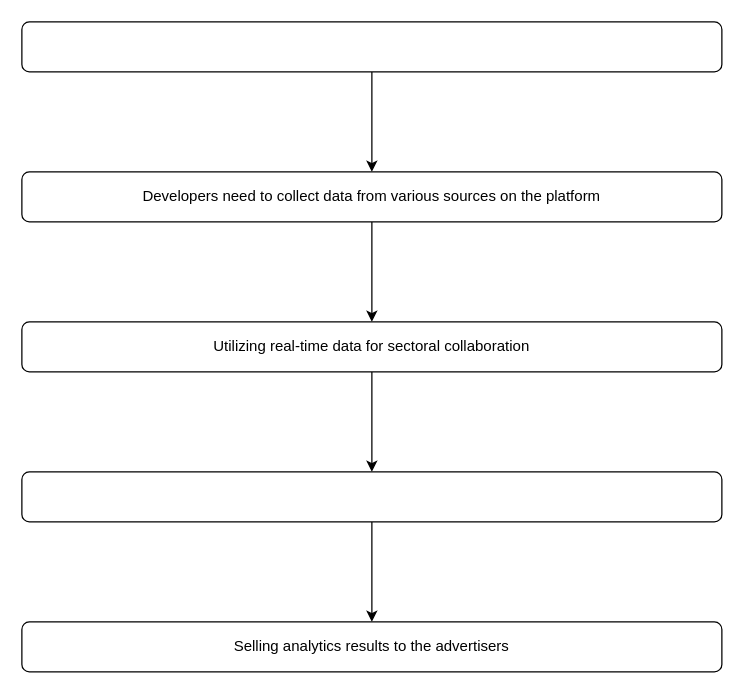
Image size: 744x694. Some labels were removed from this diagram. The shapes that lost their labels are listed below. From the top down, each one's box as (x1, y1, x2, y2) in pixels, then its label:
(21, 21, 722, 72): A social media platform needs analysis data with brands
(21, 471, 722, 522): Gain insights through data visualization
